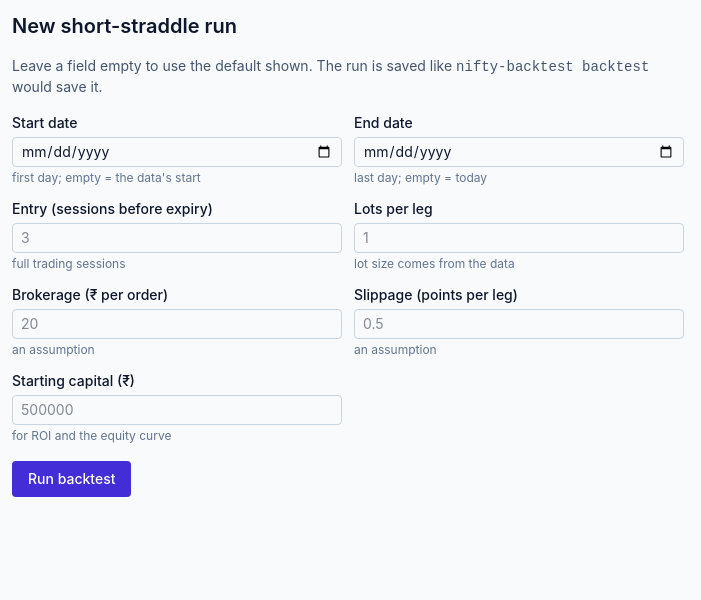
Test: launch form › disables the form while the run is in progress
The image size is (701, 600).
Click the button "Run backtest".
click(72, 479)  # box x1=12 y1=461 x2=132 y2=497
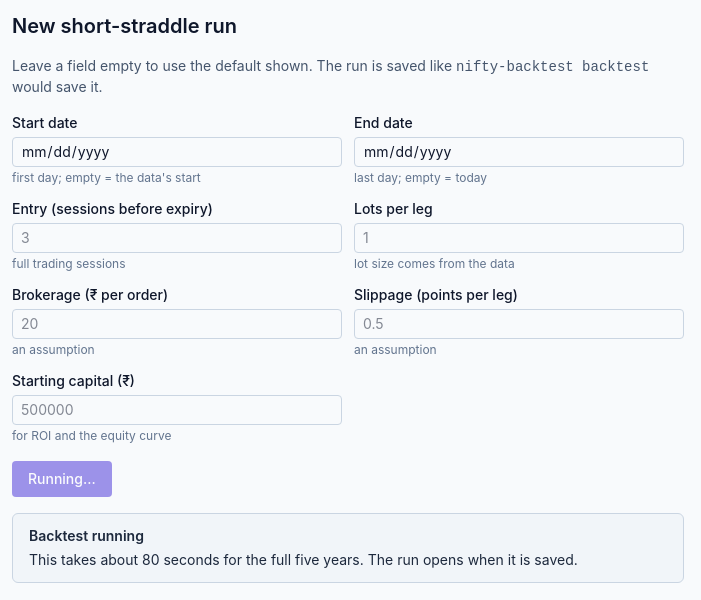
Now the button "Running…" is disabled, box x1=12 y1=461 x2=112 y2=497
Now the text "about 80 seconds" is shown, box x1=29 y1=551 x2=578 y2=568
